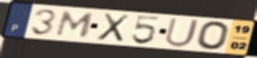3: (30, 9, 58, 36)
5: (130, 14, 161, 46)
M: (53, 10, 97, 39)
O: (195, 20, 232, 51)
U: (163, 17, 202, 49)
X: (95, 12, 132, 43)
